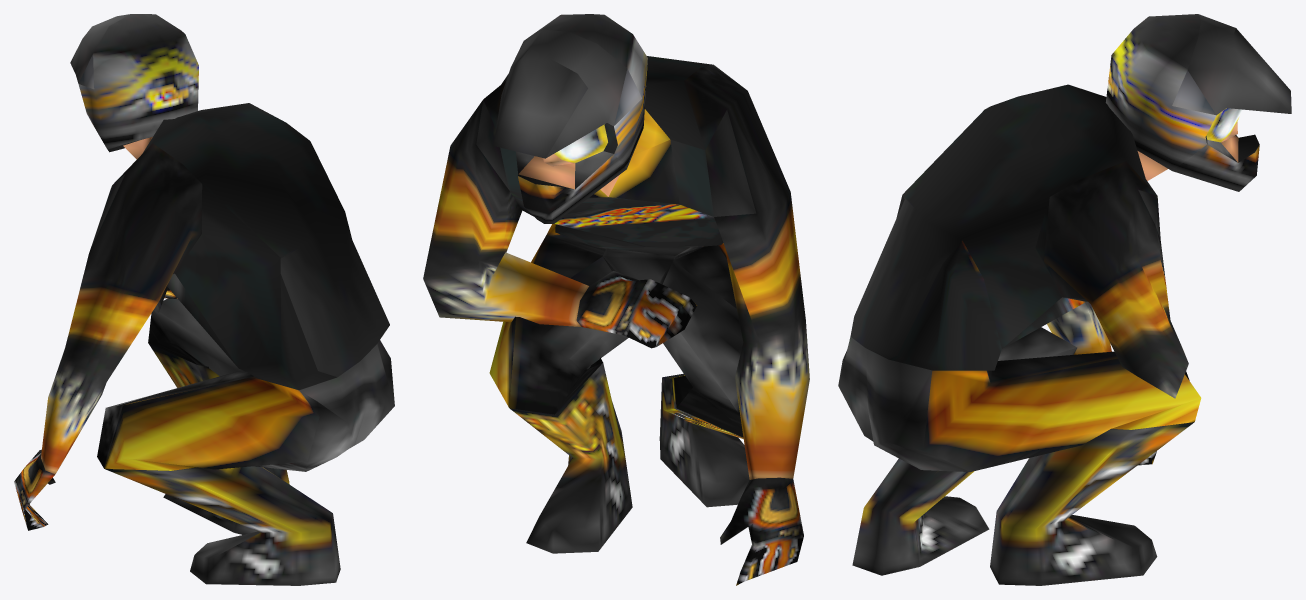
The model's file is lapatk.ico.obj.
3 renders of one model, left to right at view 1: azimuth 30°, elevation 25°; view 2: azimuth 150°, elevation 25°; view 3: azimuth 270°, elevation 25°, orthographic. The views are drawn at different scales.
Bounding box in the file's own units: 1.84 × 2.84 × 2.22.
Materials: 1 (1 with a texture image).
